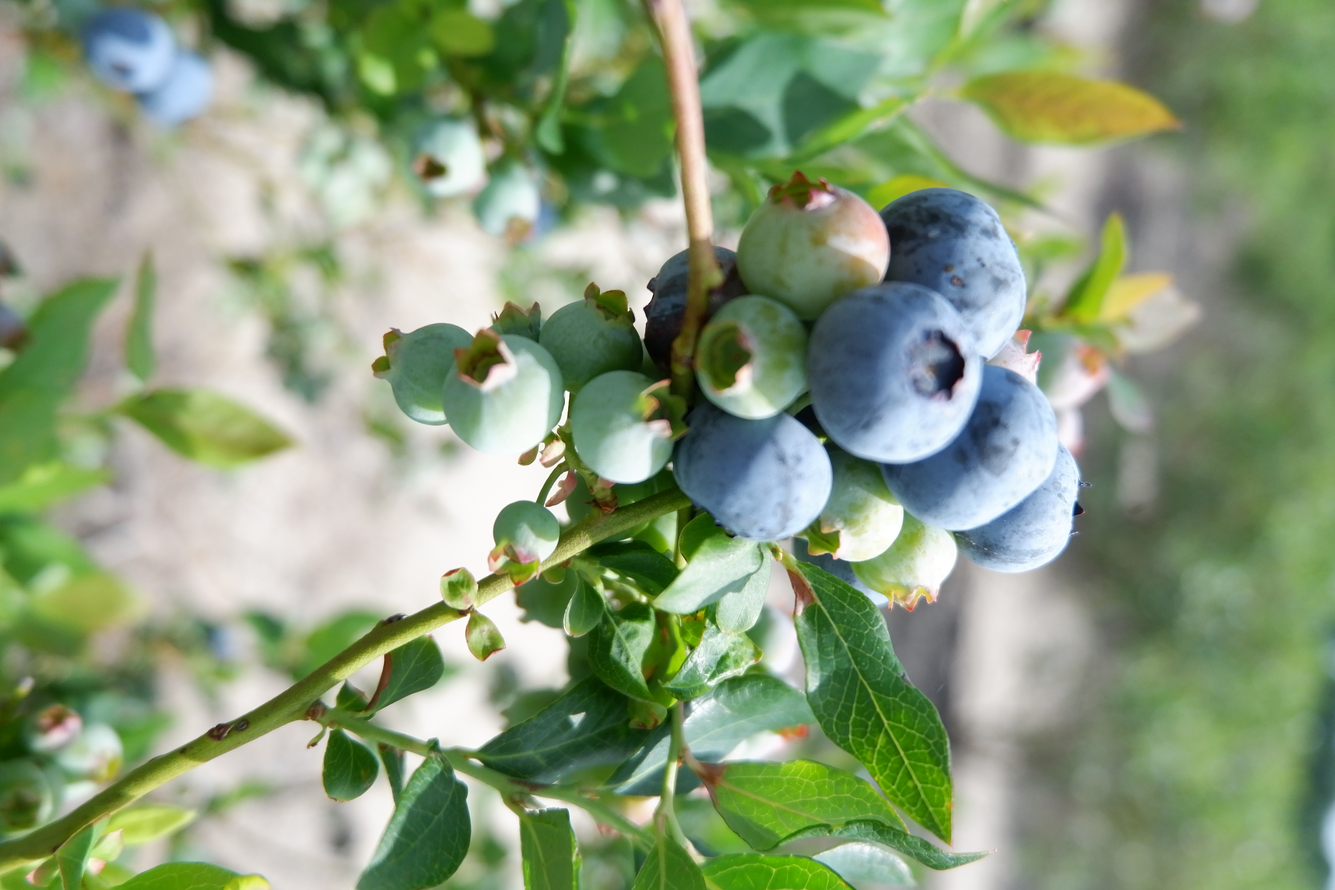Immature: (742, 176, 888, 317), (443, 334, 560, 458), (698, 299, 808, 415), (572, 373, 676, 481), (810, 449, 904, 560), (541, 292, 641, 392), (375, 325, 470, 423), (855, 516, 956, 608), (563, 472, 652, 545), (495, 503, 557, 566), (987, 330, 1040, 386), (492, 302, 540, 338)
Mature: (880, 362, 1060, 532), (812, 285, 974, 459), (885, 189, 1023, 355), (674, 403, 831, 539), (962, 447, 1080, 569), (641, 247, 748, 374), (84, 8, 173, 88), (788, 534, 880, 606), (137, 50, 213, 126)
